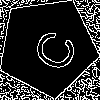C: (22, 22, 80, 76)
